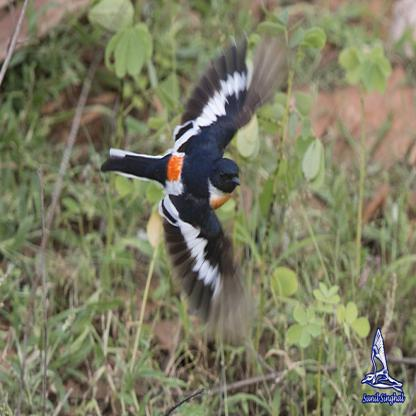Burung: (100, 30, 286, 345)
